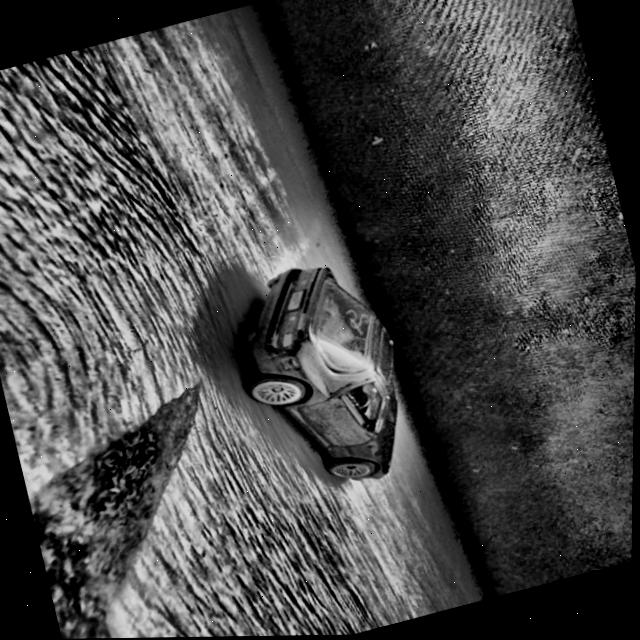car: (218, 246, 428, 508)
